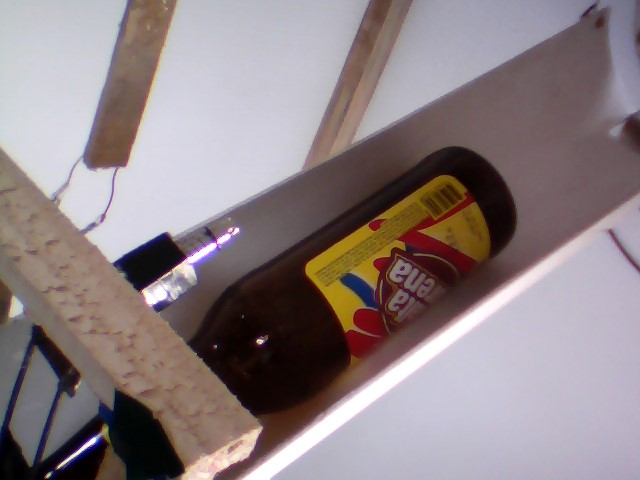vidrio: (179, 138, 527, 420)
